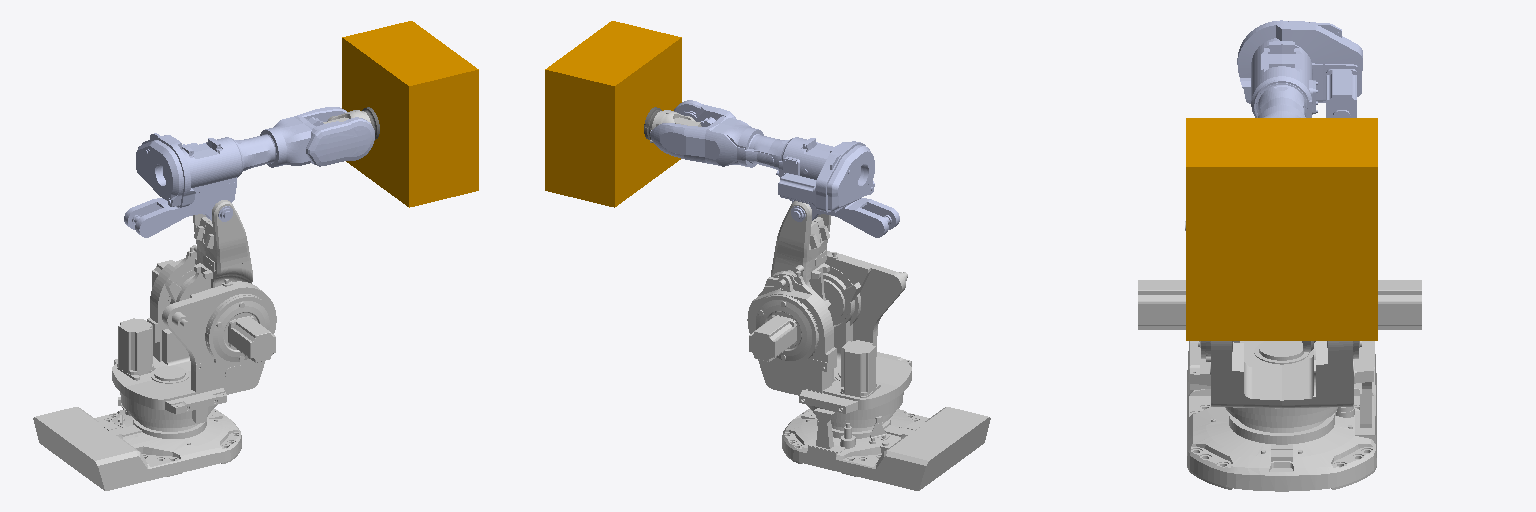
URDF robot description (abb_irb6600_support_205_190):
<?xml version="1.0" ?>
<!-- abb_irb6600_support/meshes/irb6600_205_190/ -->
<!-- Generated using onshape-to-robot -->
<!-- Onshape https://cad.onshape.com/documents/600cc7ec2a648e2819460c21/w/9c47313b92c7a7fa0f04901d/e/25f4f210713129f666b89649 -->
<robot name="abb_irb6600_support_205_190">
  <!-- Link base_link -->
  <link name="base_link">
    <inertial>
      <origin xyz="0 0 0" rpy="0 0 0"/>
      <mass value="0"/>
      <inertia ixx="0" ixy="0" ixz="0" iyy="0" iyz="0" izz="0"/>
    </inertial>
    <!-- Part base_link -->
    <visual>
      <origin xyz="0 0 0" rpy="0 -0 0"/>
      <geometry>
        <mesh filename="package://abb_irb6600_support/meshes/irb6600_205_190//base_link.stl"/>
      </geometry>
      <material name="base_link_material">
        <color rgba="0.843137 0.843137 0.843137 1.0"/>
      </material>
    </visual>
    <collision>
      <origin xyz="0 0 0" rpy="0 -0 0"/>
      <geometry>
        <mesh filename="package://abb_irb6600_support/meshes/irb6600_205_190//base_link.stl"/>
      </geometry>
    </collision>
  </link>
  <!-- Link link_1 -->
  <link name="link_1">
    <inertial>
      <origin xyz="0 0 0" rpy="0 0 0"/>
      <mass value="0"/>
      <inertia ixx="0" ixy="0" ixz="0" iyy="0" iyz="0" izz="0"/>
    </inertial>
    <!-- Part link_1 -->
    <visual>
      <origin xyz="-9.70092e-18 3.84889e-17 0.2135" rpy="3.14159 1.55799e-24 8.42367e-56"/>
      <geometry>
        <mesh filename="package://abb_irb6600_support/meshes/irb6600_205_190//link_1.stl"/>
      </geometry>
      <material name="link_1_material">
        <color rgba="0.843137 0.843137 0.843137 1.0"/>
      </material>
    </visual>
    <collision>
      <origin xyz="-9.70092e-18 3.84889e-17 0.2135" rpy="3.14159 1.55799e-24 8.42367e-56"/>
      <geometry>
        <mesh filename="package://abb_irb6600_support/meshes/irb6600_205_190//link_1.stl"/>
      </geometry>
    </collision>
  </link>
  <!-- Link link_2 -->
  <link name="link_2">
    <inertial>
      <origin xyz="0 0 0" rpy="0 0 0"/>
      <mass value="0"/>
      <inertia ixx="0" ixy="0" ixz="0" iyy="0" iyz="0" izz="0"/>
    </inertial>
    <!-- Part link_2 -->
    <visual>
      <origin xyz="-0.3 0.8145 -0.1385" rpy="1.5708 -1.19007e-14 1.55799e-24"/>
      <geometry>
        <mesh filename="package://abb_irb6600_support/meshes/irb6600_205_190//link_2.stl"/>
      </geometry>
      <material name="link_2_material">
        <color rgba="0.843137 0.843137 0.843137 1.0"/>
      </material>
    </visual>
    <collision>
      <origin xyz="-0.3 0.8145 -0.1385" rpy="1.5708 -1.19007e-14 1.55799e-24"/>
      <geometry>
        <mesh filename="package://abb_irb6600_support/meshes/irb6600_205_190//link_2.stl"/>
      </geometry>
    </collision>
  </link>
  <!-- Link link_3 -->
  <link name="link_3">
    <inertial>
      <origin xyz="0 0 0" rpy="0 0 0"/>
      <mass value="0"/>
      <inertia ixx="0" ixy="0" ixz="0" iyy="0" iyz="0" izz="0"/>
    </inertial>
    <!-- Part link_3 -->
    <visual>
      <origin xyz="-0.3 1.5145 -0.095" rpy="1.5708 1.06568e-14 -1.66533e-16"/>
      <geometry>
        <mesh filename="package://abb_irb6600_support/meshes/irb6600_205_190//link_3.stl"/>
      </geometry>
      <material name="link_3_material">
        <color rgba="0.792157 0.819608 0.933333 1.0"/>
      </material>
    </visual>
    <collision>
      <origin xyz="-0.3 1.5145 -0.095" rpy="1.5708 1.06568e-14 -1.66533e-16"/>
      <geometry>
        <mesh filename="package://abb_irb6600_support/meshes/irb6600_205_190//link_3.stl"/>
      </geometry>
    </collision>
  </link>
  <!-- Link link_4 -->
  <link name="link_4">
    <inertial>
      <origin xyz="0 0 0" rpy="0 0 0"/>
      <mass value="0"/>
      <inertia ixx="0" ixy="0" ixz="0" iyy="0" iyz="0" izz="0"/>
    </inertial>
    <!-- Part link_4 -->
    <visual>
      <origin xyz="-5.67402e-15 1.7945 0.44" rpy="1.5708 1.5708 0"/>
      <geometry>
        <mesh filename="package://abb_irb6600_support/meshes/irb6600_205_190//link_4.stl"/>
      </geometry>
      <material name="link_4_material">
        <color rgba="0.792157 0.819608 0.933333 1.0"/>
      </material>
    </visual>
    <collision>
      <origin xyz="-5.67402e-15 1.7945 0.44" rpy="1.5708 1.5708 0"/>
      <geometry>
        <mesh filename="package://abb_irb6600_support/meshes/irb6600_205_190//link_4.stl"/>
      </geometry>
    </collision>
  </link>
  <!-- Link link_5 -->
  <link name="link_5">
    <inertial>
      <origin xyz="0 0 0" rpy="0 0 0"/>
      <mass value="0"/>
      <inertia ixx="0" ixy="0" ixz="0" iyy="0" iyz="0" izz="0"/>
    </inertial>
    <!-- Part link_5 -->
    <visual>
      <origin xyz="-1.193 -1.7945 -0.103" rpy="-1.5708 -6.83895e-17 -2.77556e-16"/>
      <geometry>
        <mesh filename="package://abb_irb6600_support/meshes/irb6600_205_190//link_5.stl"/>
      </geometry>
      <material name="link_5_material">
        <color rgba="0.843137 0.843137 0.843137 1.0"/>
      </material>
    </visual>
    <collision>
      <origin xyz="-1.193 -1.7945 -0.103" rpy="-1.5708 -6.83895e-17 -2.77556e-16"/>
      <geometry>
        <mesh filename="package://abb_irb6600_support/meshes/irb6600_205_190//link_5.stl"/>
      </geometry>
    </collision>
  </link>
  <!-- Link link_6 -->
  <link name="link_6">
    <inertial>
      <origin xyz="0 0 0" rpy="0 0 0"/>
      <mass value="0"/>
      <inertia ixx="0" ixy="0" ixz="0" iyy="0" iyz="0" izz="0"/>
    </inertial>
    <!-- Part link_6 -->
    <visual>
      <origin xyz="1.38513e-15 1.7945 1.356" rpy="1.5708 1.5708 0"/>
      <geometry>
        <mesh filename="package://abb_irb6600_support/meshes/irb6600_205_190//link_6.stl"/>
      </geometry>
      <material name="link_6_material">
        <color rgba="0.501961 0.501961 0.501961 1.0"/>
      </material>
    </visual>
    <collision>
      <origin xyz="1.38513e-15 1.7945 1.356" rpy="1.5708 1.5708 0"/>
      <geometry>
        <mesh filename="package://abb_irb6600_support/meshes/irb6600_205_190//link_6.stl"/>
      </geometry>
    </collision>
  </link>
  <!-- Joint from link_5 to link_6 -->
  <joint name="joint_6" type="revolute">
    <origin xyz="0.163 3.33067e-15 -0.103" rpy="-3.14159 1.5708 0"/>
    <parent link="link_5"/>
    <child link="link_6"/>
    <axis xyz="0 0 1"/>
    <limit effort="10" velocity="10" lower="-3.14159" upper="3.14159"/>
  </joint>
  <!-- Joint from link_4 to link_5 -->
  <joint name="joint_5" type="revolute">
    <origin xyz="-0.103 1.9984e-15 -0.753" rpy="-3.14159 1.5708 0"/>
    <parent link="link_4"/>
    <child link="link_5"/>
    <axis xyz="0 0 1"/>
    <limit effort="10" velocity="10" lower="-2.0944" upper="2.0944"/>
  </joint>
  <!-- Joint from link_3 to link_4 -->
  <joint name="joint_4" type="revolute">
    <origin xyz="0.14 -0.28 -0.095" rpy="1.62115e-16 -1.5708 0"/>
    <parent link="link_3"/>
    <child link="link_4"/>
    <axis xyz="0 0 1"/>
    <limit effort="10" velocity="10" lower="-3.14159" upper="3.14159"/>
  </joint>
  <!-- Joint from link_2 to link_3 -->
  <joint name="joint_3" type="revolute">
    <origin xyz="-2.05391e-15 -0.7 -0.0435" rpy="1.93349e-15 -1.19007e-14 1.55799e-24"/>
    <parent link="link_2"/>
    <child link="link_3"/>
    <axis xyz="0 0 1"/>
    <limit effort="10" velocity="10" lower="-1.22173" upper="1.39626"/>
  </joint>
  <!-- Joint from link_1 to link_2 -->
  <joint name="joint_2" type="revolute">
    <origin xyz="0.3 -0.1385 -0.601" rpy="1.5708 1.55799e-24 8.42367e-56"/>
    <parent link="link_1"/>
    <child link="link_2"/>
    <axis xyz="0 0 1"/>
    <limit effort="10" velocity="10" lower="-0.733038" upper="1.48353"/>
  </joint>
  <!-- Joint from base_link to link_1 -->
  <joint name="joint_1" type="revolute">
    <origin xyz="0 0 0.2135" rpy="3.14159 -0 0"/>
    <parent link="base_link"/>
    <child link="link_1"/>
    <axis xyz="0 0 1"/>
    <limit effort="10" velocity="10" lower="-3.14159" upper="3.14159"/>
  </joint>




  <link name="tool0"/>


  <joint name="link_6-tool0" type="fixed">
    <child link="tool0"/>
    <origin rpy="0 3.14159265359 -0.0" xyz="0.0 0.0 -0.05"/>
    <parent link="link_6"/>
  </joint>



    <!-- <link name="tool_small">
      <collision>
        <geometry>
          <box size="0.4 0.4 0.38"/>
        </geometry>
        <origin rpy="0 0 0" xyz="0 0 -0.19"/>
      </collision>
      <visual>
        <geometry>
          <box size="0.4 0.4 0.38"/>
        </geometry>
        <origin rpy="0 0 0" xyz="0 0 -0.19"/>
      </visual>
    </link>

    <joint name="tool0-tool_small" type="fixed">
      <child link="tool_small"/>
      <origin rpy="0 0 0" xyz="0.0 0.0 0.4"/>
      <parent link="tool0"/>
    </joint> -->


    <link name="tool_mid">
      <collision>
        <geometry>
          <box size="0.8 0.8 0.48"/>
        </geometry>
        <origin rpy="0 0 0" xyz="0 0 -0.245"/>
      </collision>
      <visual>
        <geometry>
          <box size="0.8 0.8 0.48"/>
        </geometry>
        <origin rpy="0 0 0" xyz="0 0 -0.245"/>
      </visual>
    </link>

    <joint name="tool0-tool_mid" type="fixed">
      <child link="tool_mid"/>
      <origin rpy="0 0 0" xyz="0.0 0.0 0.5"/>
      <parent link="tool0"/>
    </joint>


  <!-- <link name="tool_large">
    <collision>
      <geometry>
        <box size="1.2 1.6 0.58"/>
      </geometry>
      <origin rpy="0 0 0" xyz="0 0 -0.29"/>
    </collision>
    <visual>
      <geometry>
        <box size="1.2 1.6 0.58"/>
      </geometry>
      <origin rpy="0 0 0" xyz="0 0 -0.29"/>
    </visual>
  </link>

  <joint name="tool0-tool_large" type="fixed">
    <child link="tool_large"/>
    <origin rpy="0 0 0" xyz="0.0 0.0 0.6"/>
    <parent link="tool0"/>
  </joint> -->

</robot>

--- Render facts (derived) ---
3 views of the same robot in one strip: view 1: azimuth 30°, elevation 25°; view 2: azimuth 150°, elevation 25°; view 3: azimuth 270°, elevation 25° (orthographic).
Model abb_irb6600_support_205_190 with 9 links and 8 joints (6 revolute, 2 fixed), rooted at base_link, posed every joint at zero.
Visible links, largest first — view 1: tool_mid, link_1, base_link, link_3, link_4, link_2; view 2: tool_mid, link_1, base_link, link_3, link_4, link_2; view 3: tool_mid, link_1, base_link, link_3, link_4.
Link boxes in pixels (<box>): tool_mid: <box>342,21,478,207</box>; link_1: <box>112,245,276,427</box>; base_link: <box>33,403,241,490</box>; link_3: <box>124,133,243,237</box>; link_4: <box>235,107,374,170</box>; link_2: <box>176,200,252,301</box>; tool_mid: <box>545,21,681,207</box>; link_1: <box>747,251,911,427</box>; base_link: <box>782,407,990,490</box>; link_3: <box>776,137,899,237</box>; link_4: <box>650,100,788,170</box>; link_2: <box>771,201,830,313</box>; tool_mid: <box>1186,118,1377,340</box>; link_1: <box>1138,221,1421,427</box>; base_link: <box>1187,341,1376,491</box>; link_3: <box>1237,20,1362,117</box>; link_4: <box>1256,83,1306,117</box>.
Bounding box of the posed robot: 2.63 × 1.18 × 2.19 m (x, y, z).
7 mesh visuals loaded from 7 distinct referenced files (7 binary STL).
